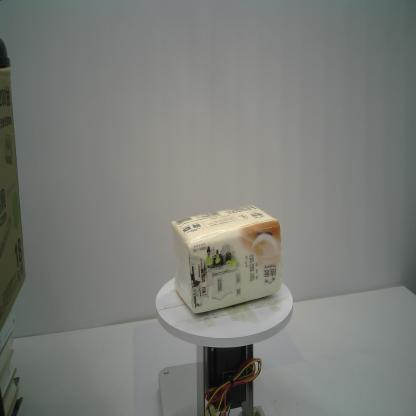Tissue: (171, 204, 282, 314)
